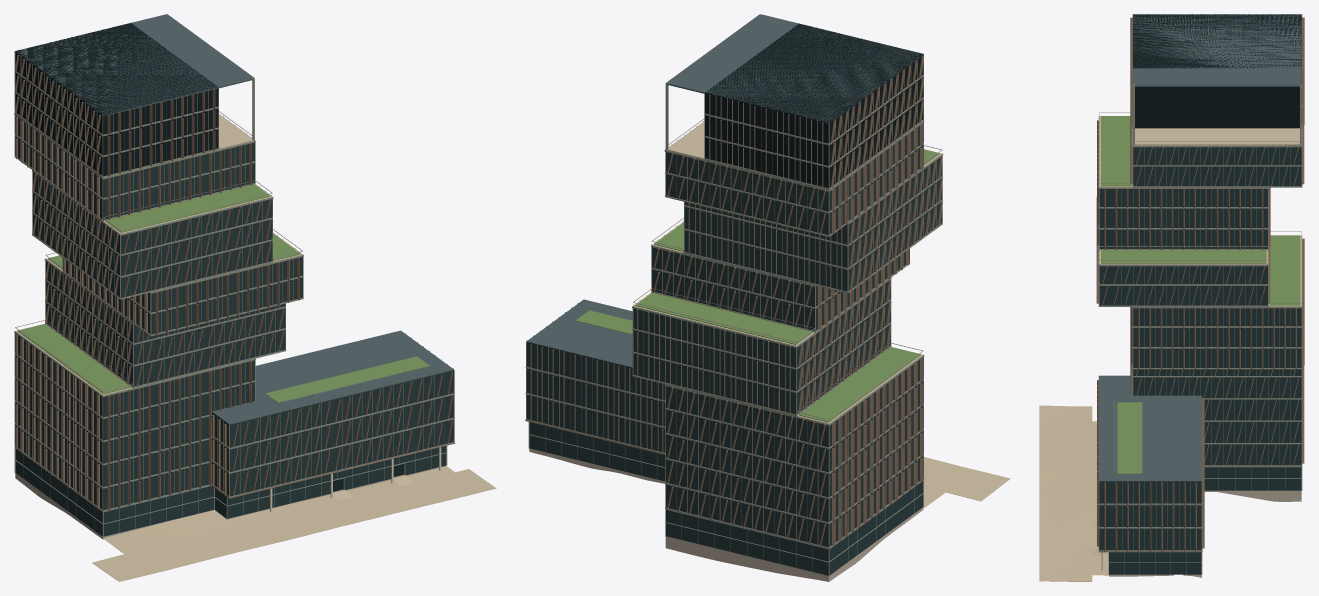
File: cds-mobile-source.glb
The picture shows the model from 3 angles, left to right: view 1: azimuth 30°, elevation 25°; view 2: azimuth 150°, elevation 25°; view 3: azimuth 270°, elevation 25°; orthographic projection. The views are drawn at different scales.
Parts seen in each view (by area): view 1: BU architecture · glass, BU architecture · bronze, BU architecture · frame, BU architecture · glassShade, BU architecture · roof, BU ground · paving, BU architecture · grass, BU architecture · paving, BU architecture · stone; view 2: BU architecture · glass, BU architecture · bronze, BU architecture · frame, BU architecture · glassShade, BU architecture · roof, BU architecture · grass, BU architecture · stone, BU ground · paving, BU architecture · paving; view 3: BU architecture · glass, BU architecture · roof, BU architecture · glassShade, BU architecture · frame, BU architecture · bronze, BU ground · paving, BU architecture · grass, BU architecture · paving, BU architecture · stone.
Boxes of the visible parts, x1,y1,x2,y2 form: BU architecture · glass: [15, 116, 453, 536]; BU architecture · bronze: [14, 26, 455, 510]; BU architecture · frame: [14, 14, 454, 537]; BU architecture · glassShade: [15, 23, 403, 491]; BU architecture · roof: [16, 14, 453, 511]; BU ground · paving: [92, 466, 496, 581]; BU architecture · grass: [17, 184, 429, 403]; BU architecture · paving: [15, 114, 302, 395]; BU architecture · stone: [15, 465, 446, 539]; BU architecture · glass: [526, 123, 942, 575]; BU architecture · bronze: [525, 24, 942, 545]; BU architecture · frame: [525, 14, 943, 576]; BU architecture · glassShade: [705, 23, 923, 188]; BU architecture · roof: [526, 14, 924, 548]; BU architecture · grass: [575, 149, 939, 422]; BU architecture · stone: [529, 448, 923, 581]; BU ground · paving: [923, 457, 1010, 508]; BU architecture · paving: [633, 122, 941, 423]; BU architecture · glass: [1099, 145, 1301, 574]; BU architecture · roof: [1099, 14, 1302, 481]; BU architecture · glassShade: [1133, 14, 1301, 128]; BU architecture · frame: [1098, 14, 1302, 574]; BU architecture · bronze: [1096, 14, 1304, 552]; BU ground · paving: [1039, 405, 1108, 581]; BU architecture · grass: [1101, 116, 1300, 473]; BU architecture · paving: [1099, 116, 1301, 306]; BU architecture · stone: [1109, 490, 1301, 577].
Size of the model in its own units: 87 by 95.51 by 55.1.
